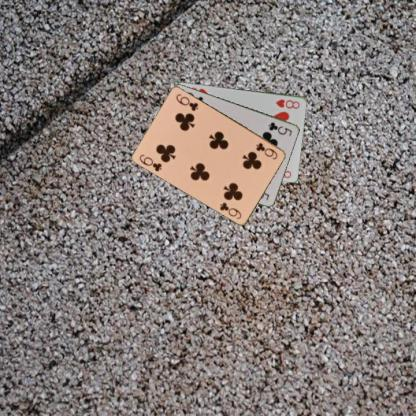5c: (266, 120, 294, 138)
6c: (137, 151, 163, 173), (254, 140, 279, 160)
8h: (273, 96, 301, 110)
